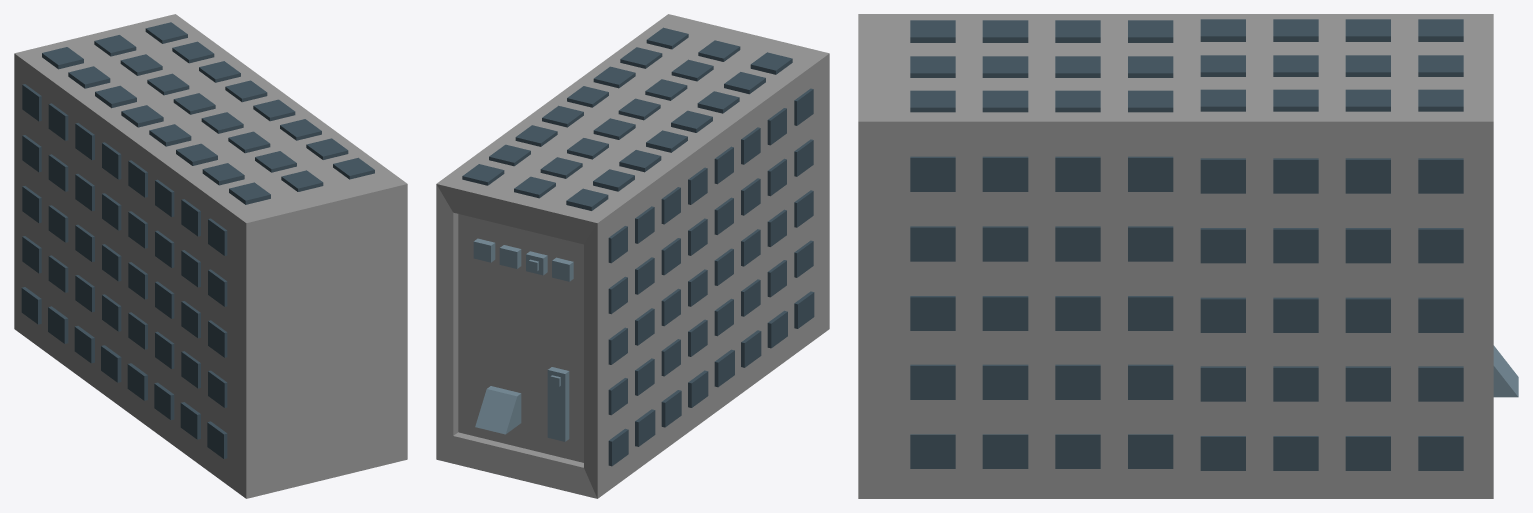
File: building4.glb
The picture shows the model from 3 angles, left to right: view 1: azimuth 30°, elevation 25°; view 2: azimuth 150°, elevation 25°; view 3: azimuth 270°, elevation 25°; orthographic projection. The views are drawn at different scales.
Visible parts, largest first — view 1: Node; view 2: Node; view 3: Node.
Boxes of the visible parts, x1,y1,x2,y2 form: Node: [14, 14, 407, 498]; Node: [436, 14, 829, 498]; Node: [858, 14, 1518, 498].
Size of the model in its own units: 8 by 13 by 20.
